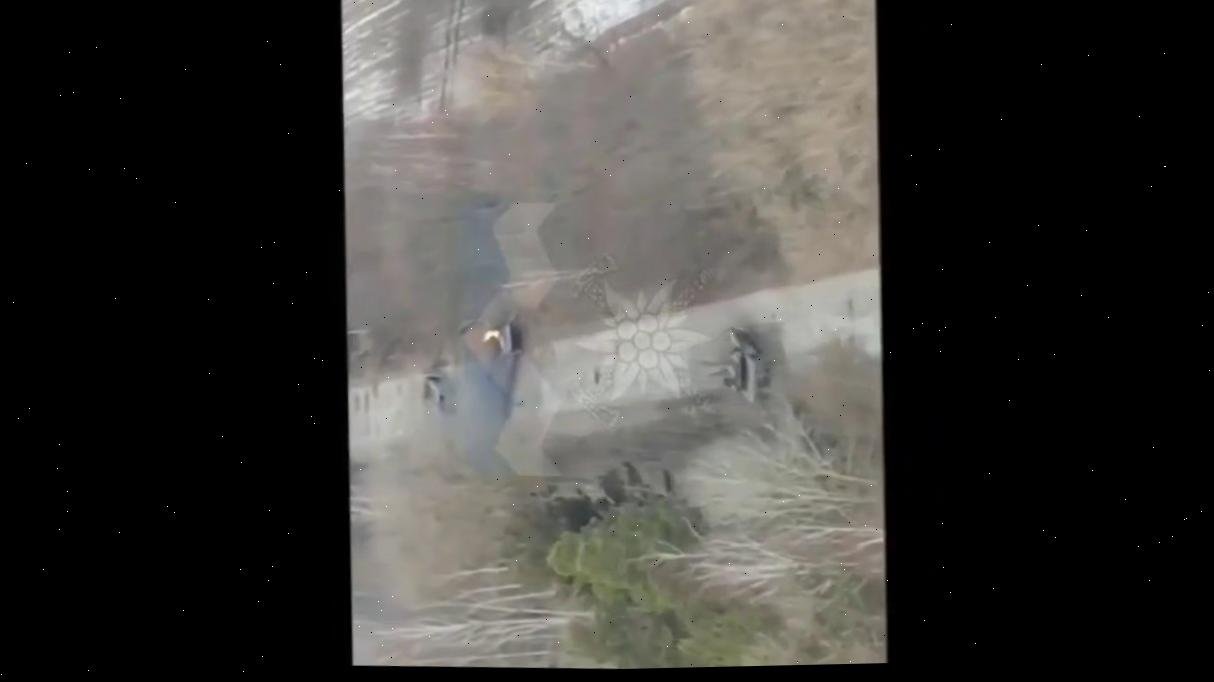tank: (693, 325, 776, 406)
